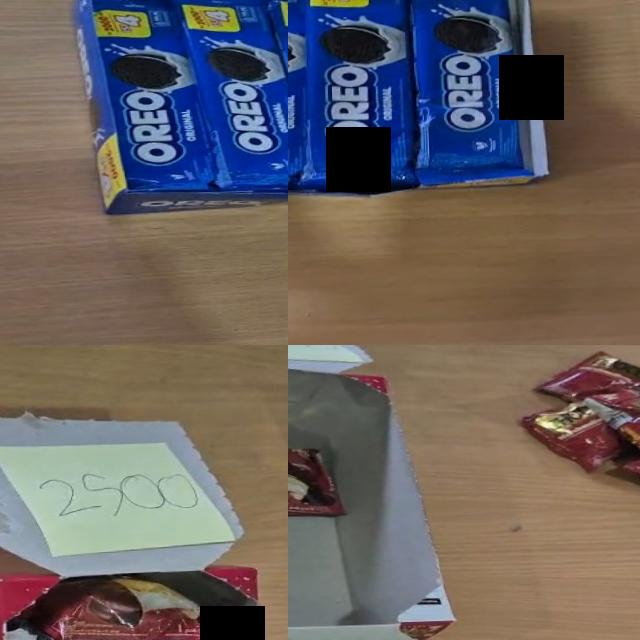Chocopie: (17, 572, 255, 640), (288, 438, 342, 521)
Oreo: (288, 0, 419, 199), (403, 0, 536, 188), (88, 0, 216, 195), (165, 0, 288, 198)
